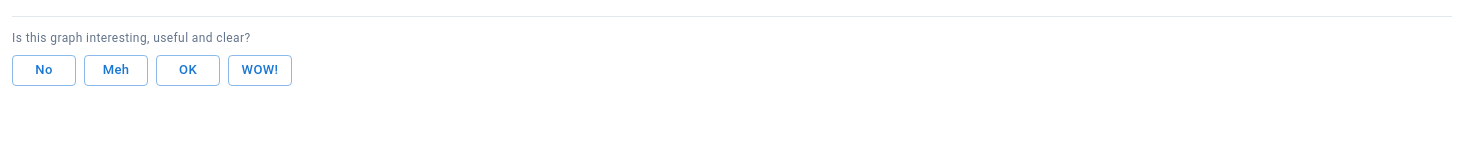
Test case: GraphFeedback › tracks a rating through the same analytics pipeline the canvas itself uses
Click the radio button labelled "OK" at (188,70), box [156,55,220,86]
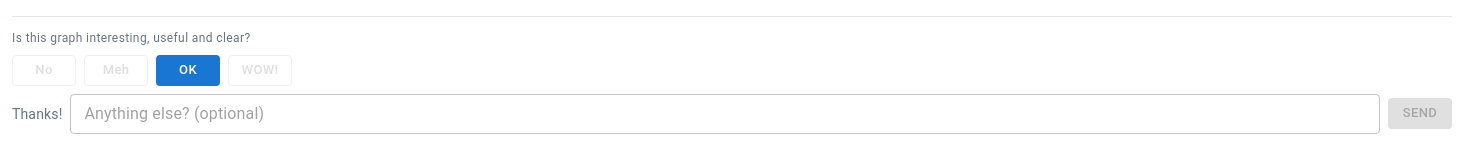
Result: the text "Thanks!" is shown at [12,104,62,124]
